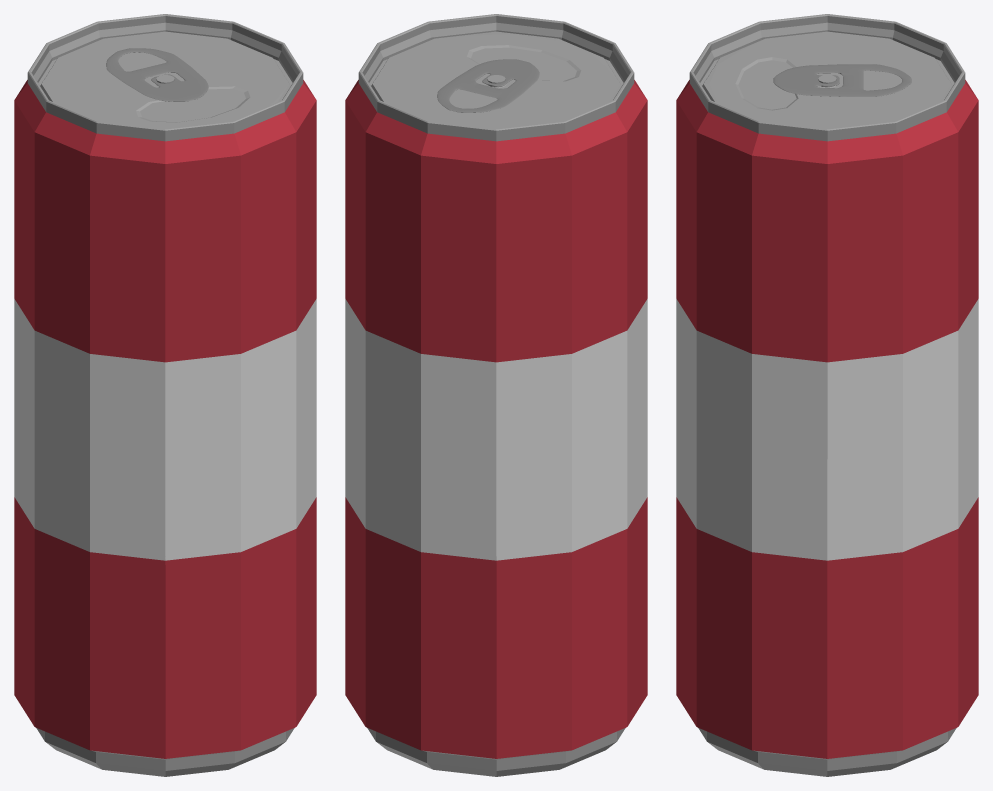
Rendered from uploads_files_3396215_ModelCan01.fbx.
3 views of the same model, side by side, from view 1: azimuth 30°, elevation 25°; view 2: azimuth 150°, elevation 25°; view 3: azimuth 270°, elevation 25° (orthographic).
Parts seen in each view (by area): view 1: Circle, Plane; view 2: Circle, Plane; view 3: Circle, Plane.
Part boxes in pixels (x1=…): Circle: x1=14, y1=14, x2=316, y2=776; Plane: x1=106, y1=48, x2=208, y2=101; Circle: x1=345, y1=14, x2=647, y2=776; Plane: x1=437, y1=59, x2=539, y2=112; Circle: x1=676, y1=14, x2=978, y2=776; Plane: x1=773, y1=64, x2=911, y2=96.
Bounding box in the file's own units: 240 × 570 × 240.
